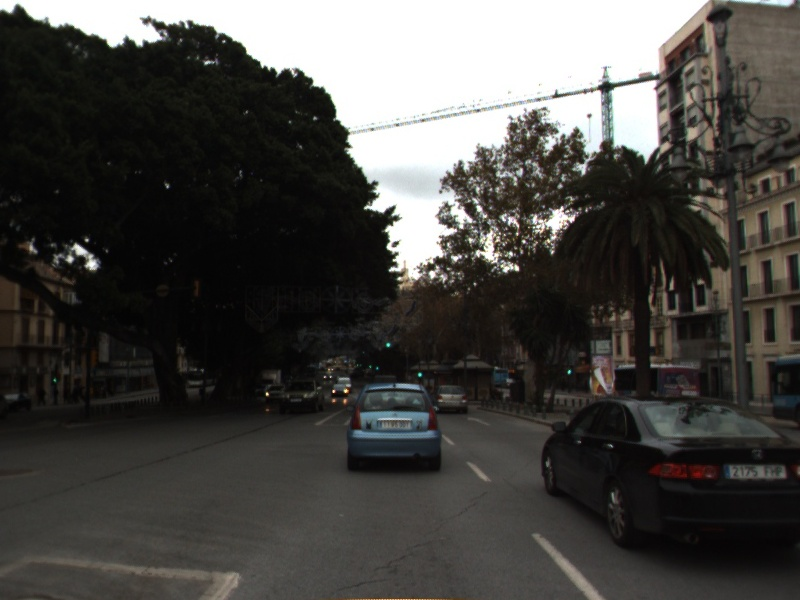STRAIGHT: (465, 414, 494, 428)
